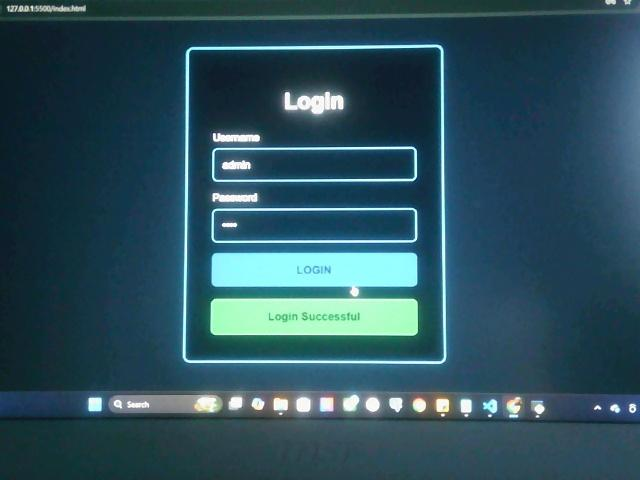login_button: (212, 251, 418, 288)
login_form: (185, 46, 445, 364)
password_input: (211, 207, 420, 243)
success_alert: (211, 297, 418, 336)
title_text: (282, 87, 350, 117)
username_input: (212, 146, 418, 183)
